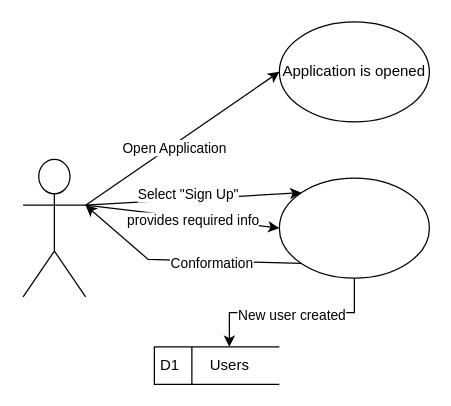
The diagram is 451 pixels wide and 406 high, and some of its shapes have lost their labels. The centre of each missing label's shape, as x and y in pixels:
"New User" goes at [54,227].
"User Signs up" goes at [353,227].
